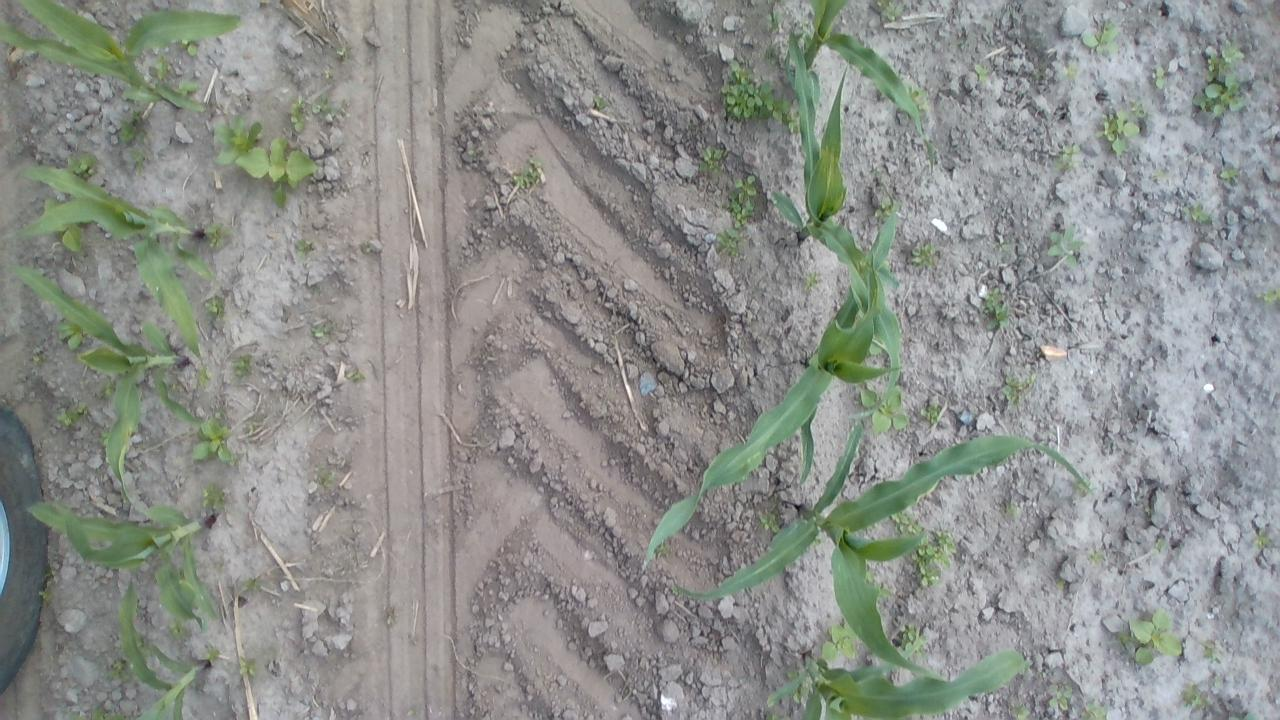Maize: (673, 420, 1095, 677), (642, 165, 902, 570), (770, 28, 905, 421), (7, 260, 204, 507), (18, 166, 208, 365), (0, 0, 243, 112), (783, 0, 936, 174), (28, 500, 224, 634), (766, 638, 1032, 720), (118, 576, 209, 720)
Weeds: (214, 114, 318, 209), (721, 60, 799, 134), (1118, 611, 1184, 665), (192, 408, 241, 466), (1096, 100, 1144, 156), (859, 385, 908, 436), (42, 196, 84, 253), (1193, 74, 1244, 116), (910, 536, 950, 588), (722, 174, 758, 229), (1046, 224, 1084, 268), (821, 618, 859, 660), (1204, 41, 1244, 80), (1081, 18, 1118, 54), (982, 286, 1012, 330), (1001, 371, 1036, 404), (56, 318, 88, 354), (898, 622, 926, 660), (118, 109, 148, 144), (512, 156, 544, 188), (890, 506, 924, 536), (66, 152, 100, 178), (54, 401, 88, 426), (716, 229, 745, 258), (1180, 682, 1210, 710), (864, 570, 892, 598), (1055, 142, 1081, 172), (698, 144, 724, 174), (204, 220, 231, 248), (202, 483, 227, 510), (1048, 682, 1072, 710), (290, 94, 307, 132), (204, 294, 227, 322), (1181, 204, 1213, 224), (904, 83, 926, 112), (910, 242, 936, 266), (874, 0, 901, 23), (311, 92, 338, 115), (232, 353, 256, 377), (1254, 286, 1280, 308), (934, 529, 957, 553), (106, 659, 132, 680), (294, 237, 316, 261), (172, 377, 202, 394), (237, 656, 260, 678), (316, 463, 336, 488), (134, 634, 156, 656), (154, 53, 173, 78), (792, 678, 810, 704), (762, 10, 784, 31), (1080, 703, 1107, 720), (167, 616, 187, 638), (758, 513, 780, 533), (173, 80, 199, 96), (1253, 530, 1273, 550), (128, 146, 144, 171), (920, 404, 941, 423), (1150, 68, 1168, 90), (1010, 701, 1030, 720), (98, 376, 115, 398), (309, 322, 332, 338), (874, 200, 891, 221), (240, 576, 262, 592), (180, 37, 198, 56), (204, 644, 220, 665), (1202, 639, 1218, 660), (196, 366, 212, 386), (1061, 62, 1077, 82), (1218, 167, 1240, 181), (973, 63, 988, 83), (1074, 477, 1091, 494), (1228, 712, 1260, 720), (804, 272, 818, 290), (1032, 60, 1046, 78), (994, 240, 1013, 253), (1004, 501, 1018, 518), (784, 668, 800, 682), (654, 542, 670, 556), (348, 370, 366, 382), (1090, 548, 1104, 563), (247, 420, 260, 436), (593, 96, 607, 110), (91, 705, 106, 718), (764, 46, 779, 59), (808, 537, 824, 548), (1152, 170, 1169, 180), (766, 713, 790, 720), (796, 19, 811, 30), (468, 146, 483, 156), (1155, 538, 1165, 552), (362, 241, 372, 255), (336, 46, 346, 57), (32, 354, 42, 364), (1057, 578, 1067, 588), (1144, 506, 1152, 513), (38, 590, 46, 596)
